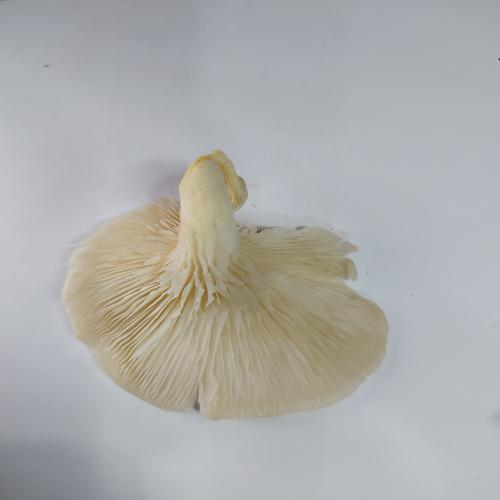Oyster Mushroom: (60, 148, 390, 420)
